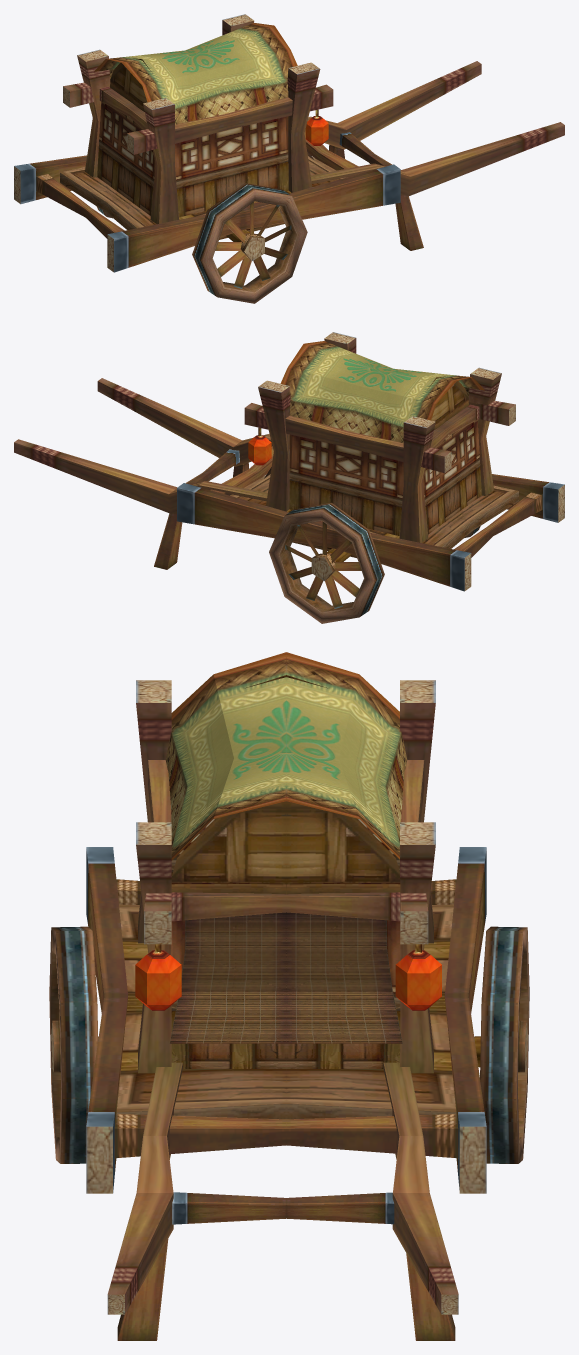
The model's file is szc_object_tuiche01a.FBX.
The picture shows the model from 3 angles, top to bottom: view 1: azimuth 30°, elevation 25°; view 2: azimuth 150°, elevation 25°; view 3: azimuth 270°, elevation 25°; orthographic projection. The views are drawn at different scales.
Visible parts, largest first — view 1: szc_object_tuiche01a; view 2: szc_object_tuiche01a; view 3: szc_object_tuiche01a.
Part boxes in pixels (x1,y1,x2,y2): szc_object_tuiche01a: (14,14,564,303); szc_object_tuiche01a: (14,332,564,623); szc_object_tuiche01a: (49,652,529,1340).
Bounding box in the file's own units: 720 × 328 × 328.
